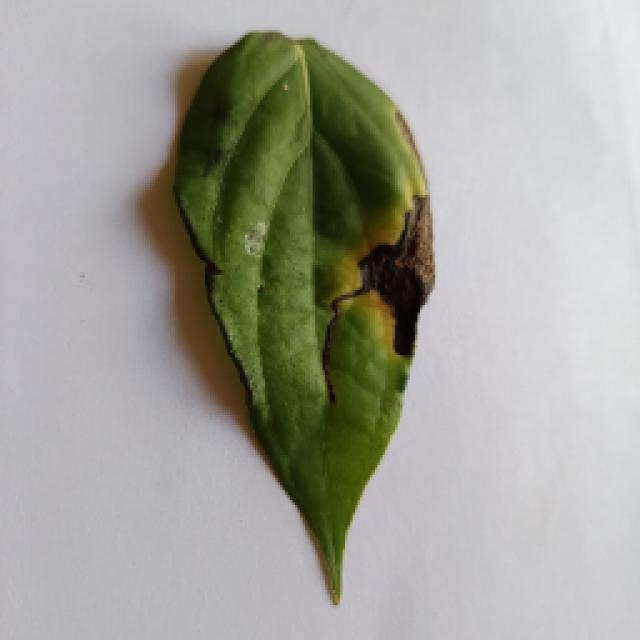footrot: (155, 33, 443, 605)
